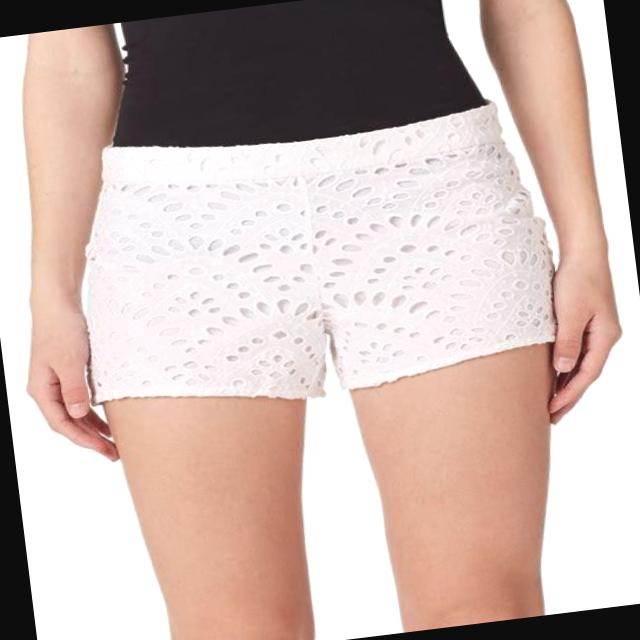short: (61, 89, 570, 424)
